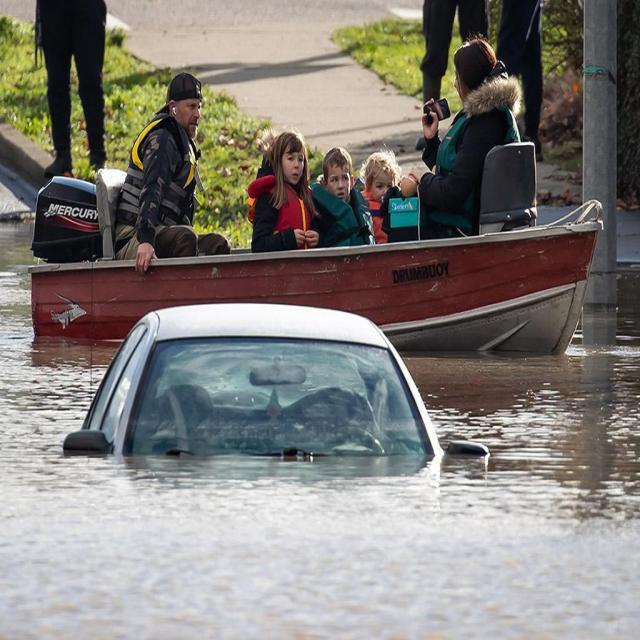water: (0, 267, 638, 638)
